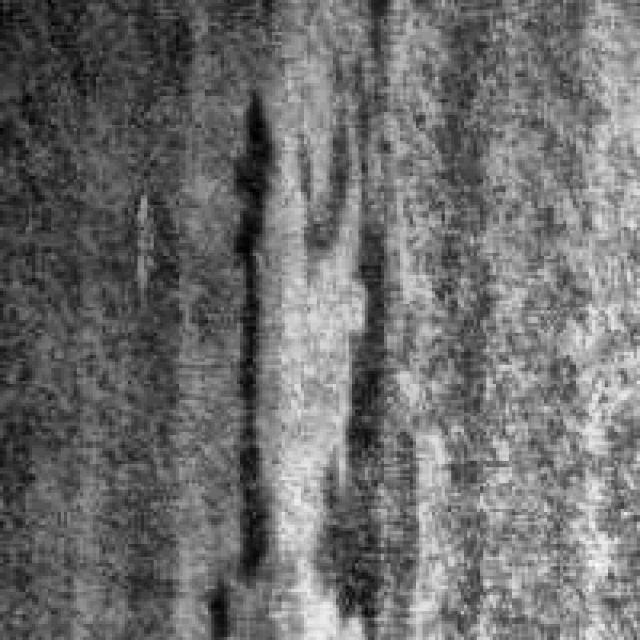Patches: (284, 77, 406, 630), (205, 77, 285, 630)
